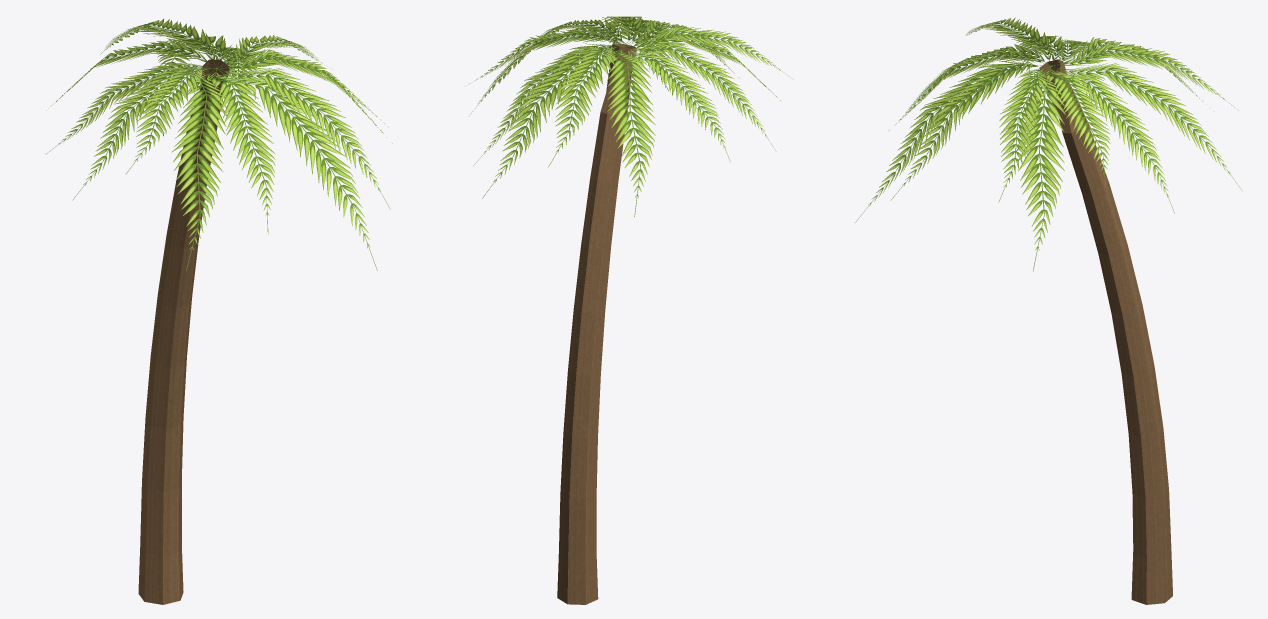
The model's file is palm2_a.glb.
The picture shows the model from 3 angles, left to right: view 1: azimuth 30°, elevation 25°; view 2: azimuth 150°, elevation 25°; view 3: azimuth 270°, elevation 25°; orthographic projection. The views are drawn at different scales.
Visible parts, largest first — view 1: palm2_a; view 2: palm2_a; view 3: palm2_a.
Boxes of the visible parts, x1=… form: palm2_a: x1=45, y1=18, x2=392, y2=604; palm2_a: x1=470, y1=16, x2=793, y2=604; palm2_a: x1=855, y1=17, x2=1242, y2=604.
Bounding box in the file's own units: 2.27 × 3.59 × 2.46.
2 materials, 2 textured.
